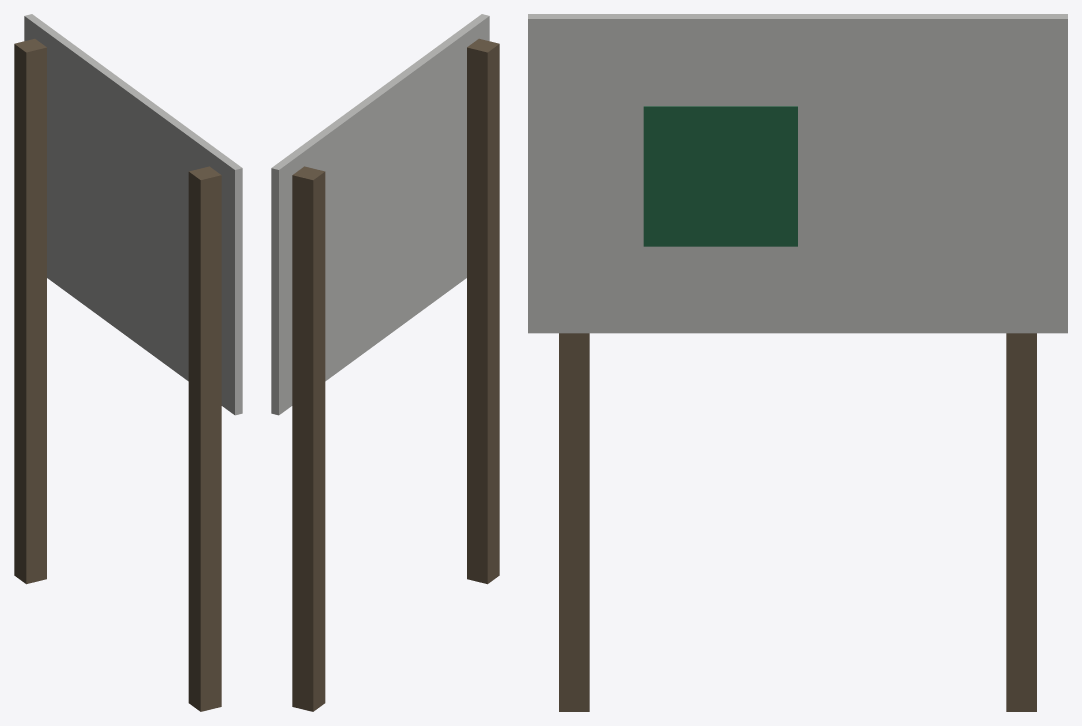
The model's file is SM_Prop_road_cafesign_1_LOD2.glb.
The picture shows the model from 3 angles, left to right: view 1: azimuth 30°, elevation 25°; view 2: azimuth 150°, elevation 25°; view 3: azimuth 270°, elevation 25°; orthographic projection. The views are drawn at different scales.
Visible parts, largest first — view 1: SM_Prop_road_cafesign_1_LOD2; view 2: SM_Prop_road_cafesign_1_LOD2; view 3: SM_Prop_road_cafesign_1_LOD2.
Boxes of the visible parts, x1,y1,x2,y2 form: SM_Prop_road_cafesign_1_LOD2: [14, 14, 242, 711]; SM_Prop_road_cafesign_1_LOD2: [271, 14, 499, 711]; SM_Prop_road_cafesign_1_LOD2: [528, 14, 1067, 711].
Bounding box in the file's own units: 0.12 × 2 × 1.4.
